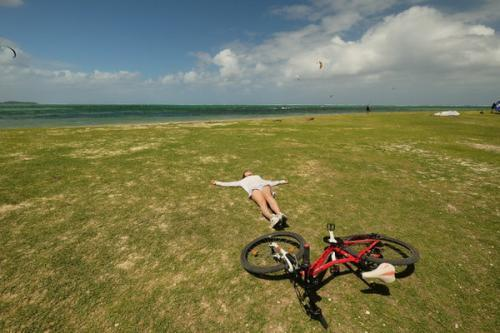Fall-Detected: (207, 163, 297, 230)
